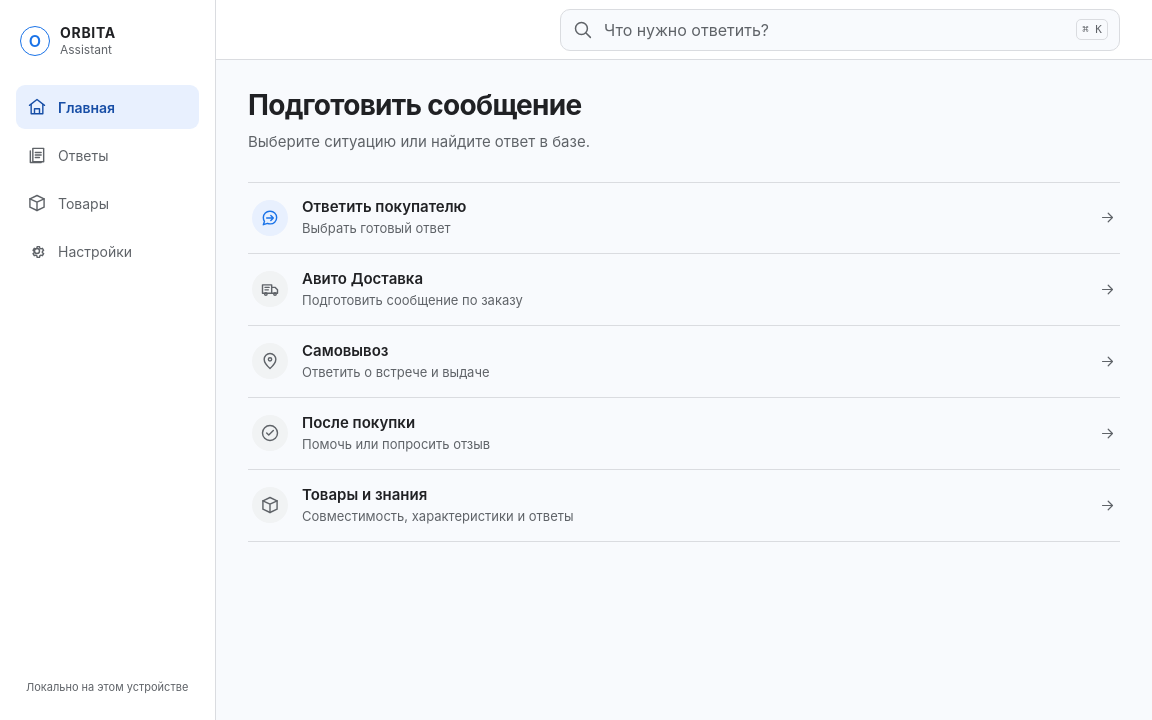
app shell › shows the eight named quick answer intents
Click the button "Ответить покупателю Выбрать готовый ответ" at (270, 218), box x1=248 y1=182 x2=1120 y2=254
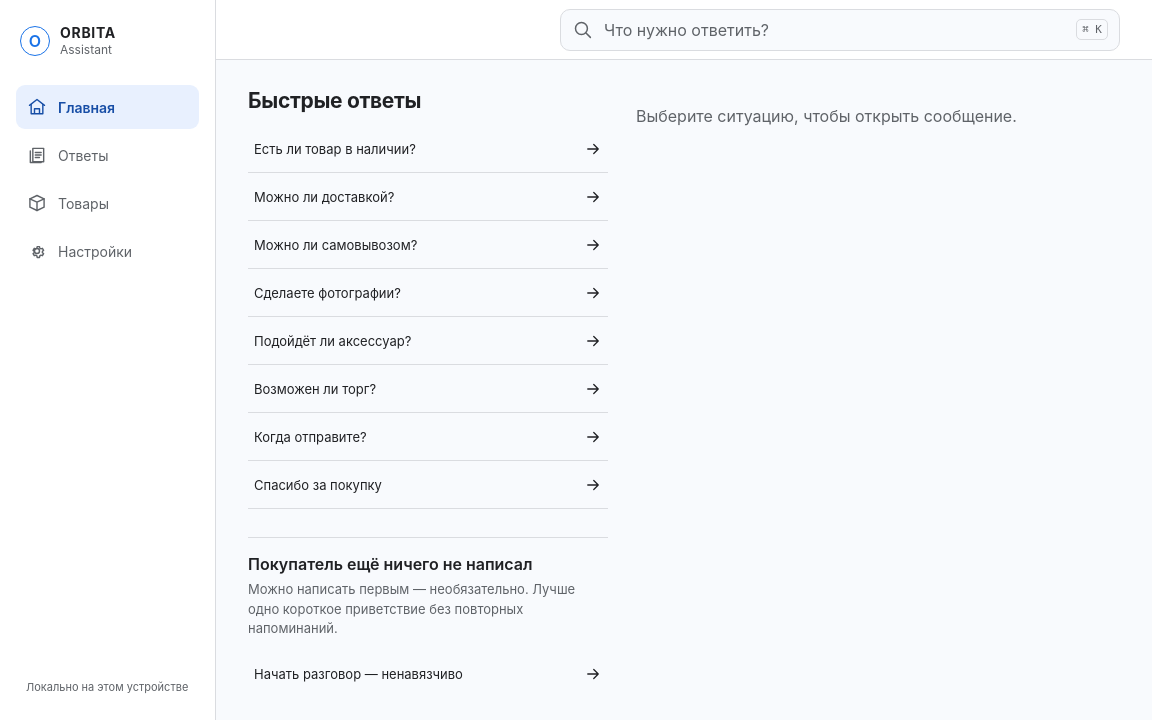
Expected: the number of headings "Быстрые ответы" is 1, x1=248 y1=88 x2=421 y2=113
Expected: the button "Есть ли товар в наличии?" is shown, x1=248 y1=125 x2=608 y2=173
Expected: the button "Можно ли доставкой?" is shown, x1=248 y1=173 x2=608 y2=221
